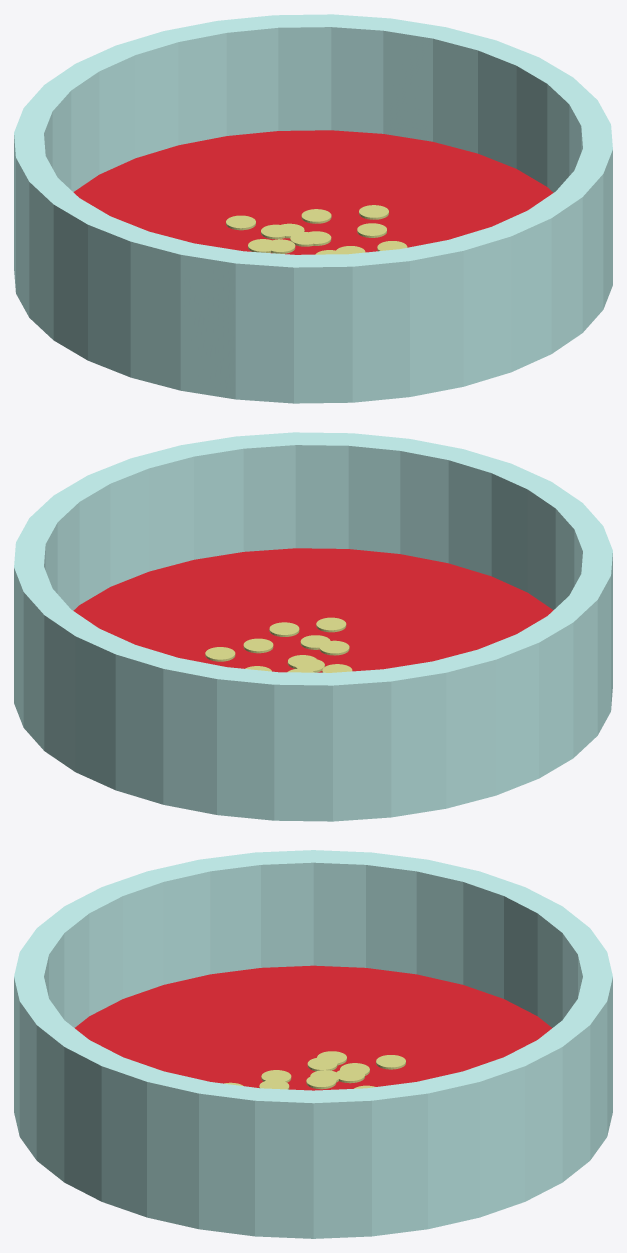
Rendered from petrischaal_inhoud2.glb.
3 views of the same model, one above another, from view 1: azimuth 30°, elevation 25°; view 2: azimuth 150°, elevation 25°; view 3: azimuth 270°, elevation 25° (orthographic).
Visible parts, largest first — view 1: Cylinder, Cylinder.001; view 2: Cylinder, Cylinder.001; view 3: Cylinder, Cylinder.001.
Part boxes in pixels (bbox=[...]): Cylinder: bbox=[14, 14, 612, 403]; Cylinder.001: bbox=[73, 130, 553, 254]; Cylinder: bbox=[14, 432, 612, 821]; Cylinder.001: bbox=[73, 548, 553, 672]; Cylinder: bbox=[14, 850, 612, 1238]; Cylinder.001: bbox=[75, 965, 551, 1090].
Size of the model in its own units: 2 by 0.5 by 2.
